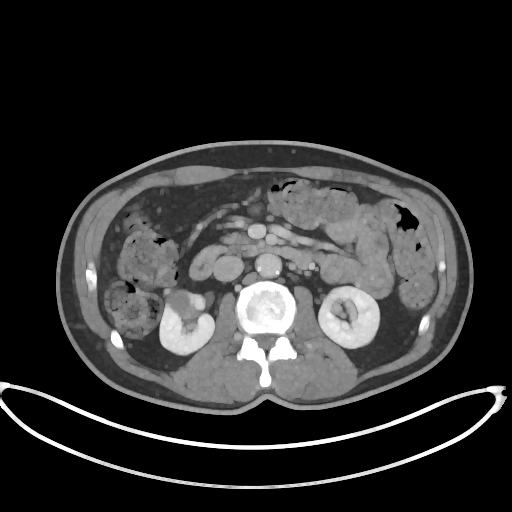Lesion: (162, 289, 198, 321)
